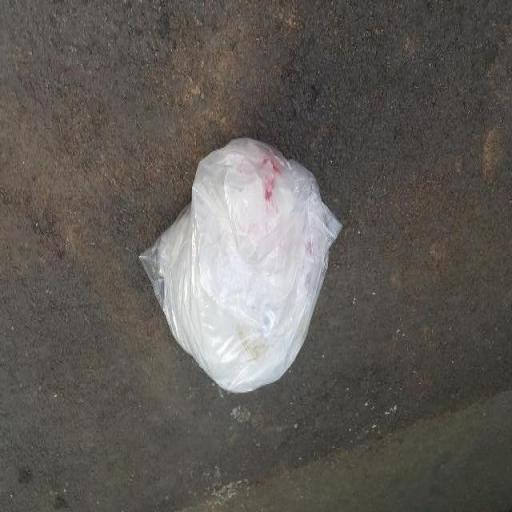plastic-bag: (131, 133, 340, 398)
